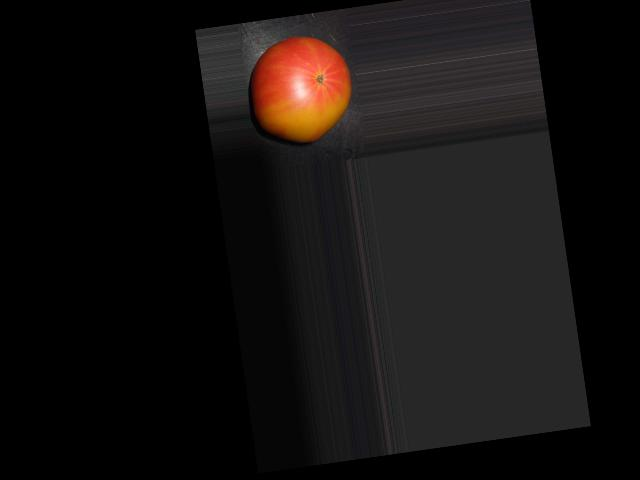tomato: (243, 30, 358, 148)
